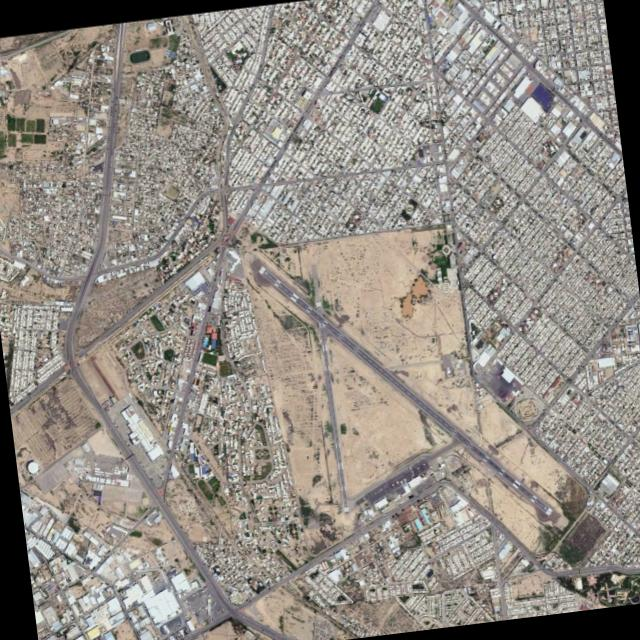storage-tank: (24, 459, 38, 475)
